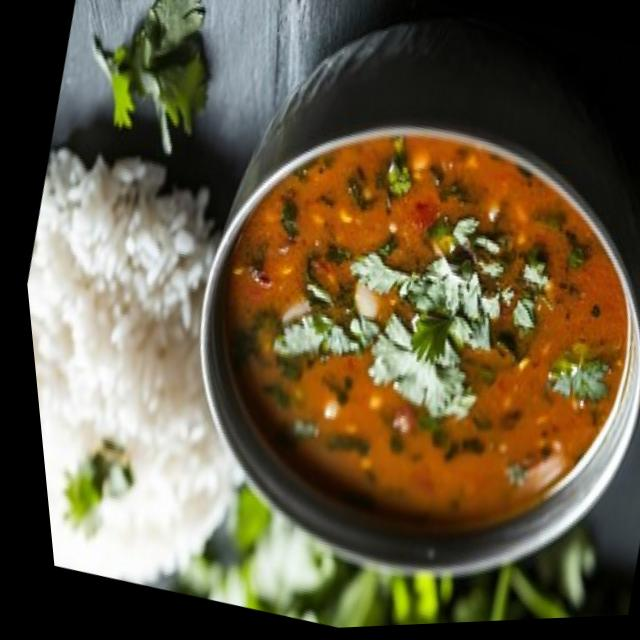RICE: (27, 149, 240, 582)
SAMBAR: (212, 134, 630, 528)
